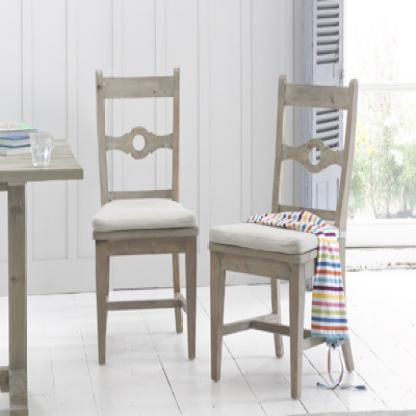chair: (209, 69, 369, 407), (83, 62, 204, 377)
table: (0, 122, 81, 416)
